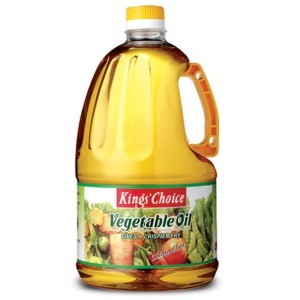vegetable oil_brain food: (79, 79, 215, 286)
